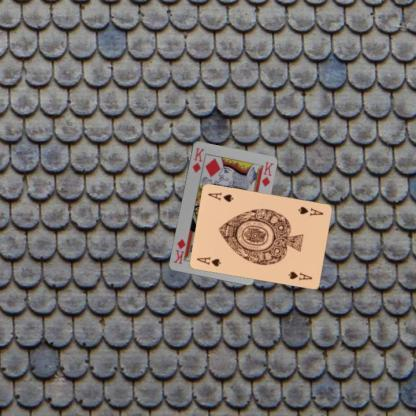As: (296, 203, 325, 217), (194, 254, 223, 268)
Kd: (190, 144, 206, 173)
